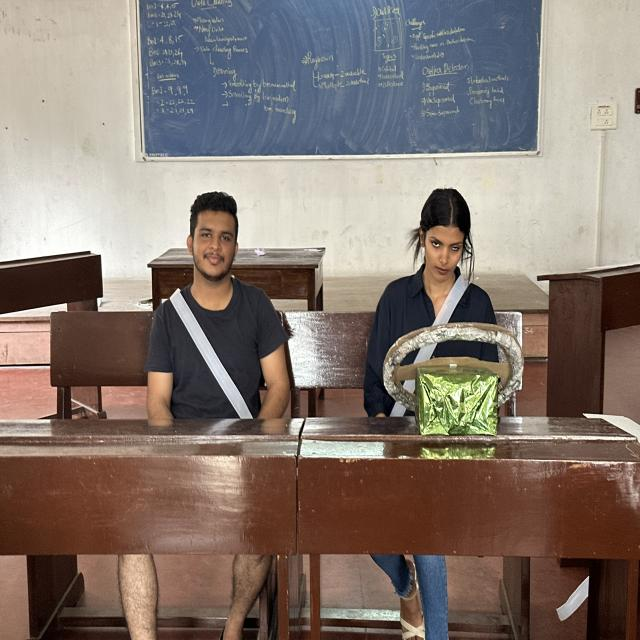seatbelt: (364, 280, 554, 410), (142, 286, 306, 429)
